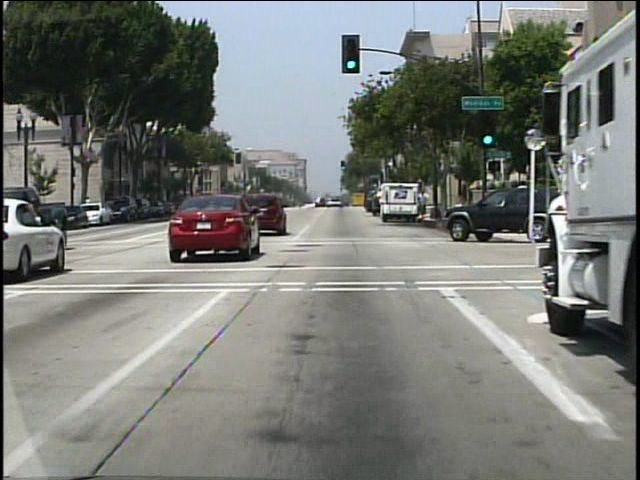person: (417, 188, 429, 220)
